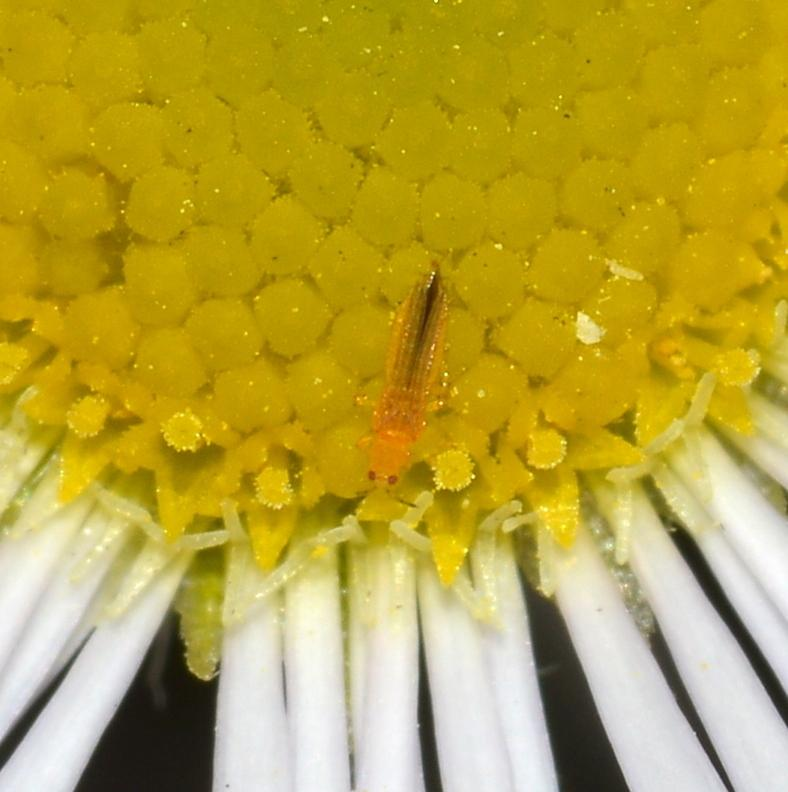tiny_pests: (320, 231, 480, 543)
